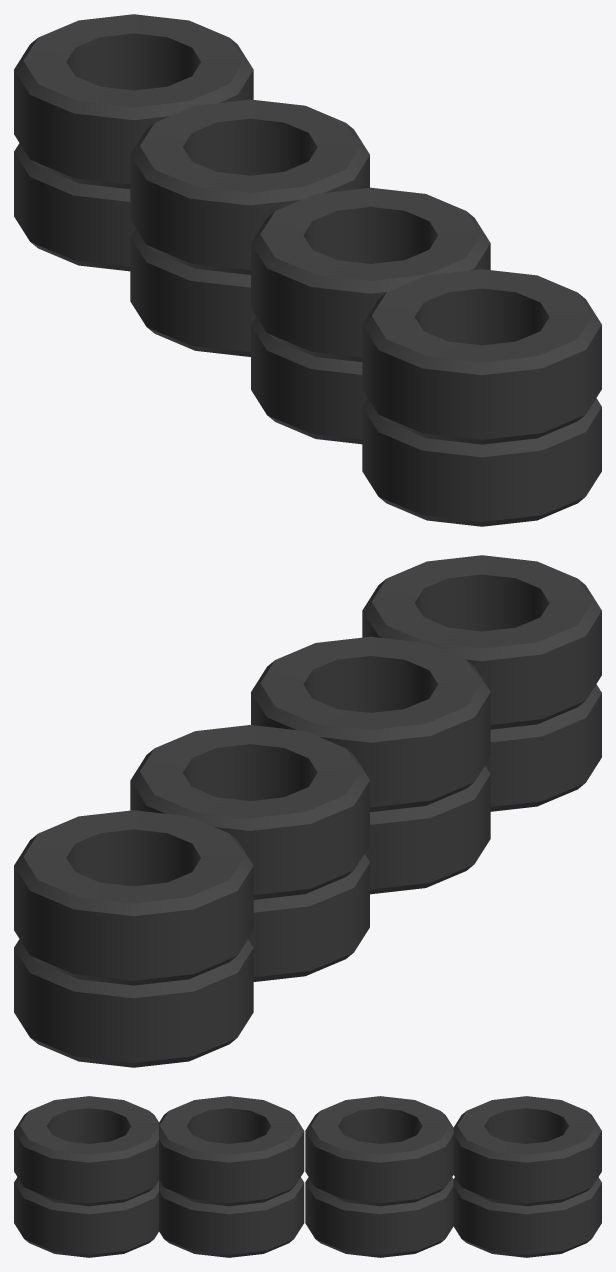
The model's file is TireWall_1_A.fbx.
The picture shows the model from 3 angles, top to bottom: view 1: azimuth 30°, elevation 25°; view 2: azimuth 150°, elevation 25°; view 3: azimuth 270°, elevation 25°; orthographic projection. The views are drawn at different scales.
Visible parts, largest first — view 1: TireWall_1_A; view 2: TireWall_1_A; view 3: TireWall_1_A.
Boxes of the visible parts, x1=… form: TireWall_1_A: x1=14, y1=14, x2=601, y2=526; TireWall_1_A: x1=14, y1=555, x2=601, y2=1067; TireWall_1_A: x1=14, y1=1096, x2=601, y2=1257.
Bounding box in the file's own units: 87.39 × 66.08 × 341.
